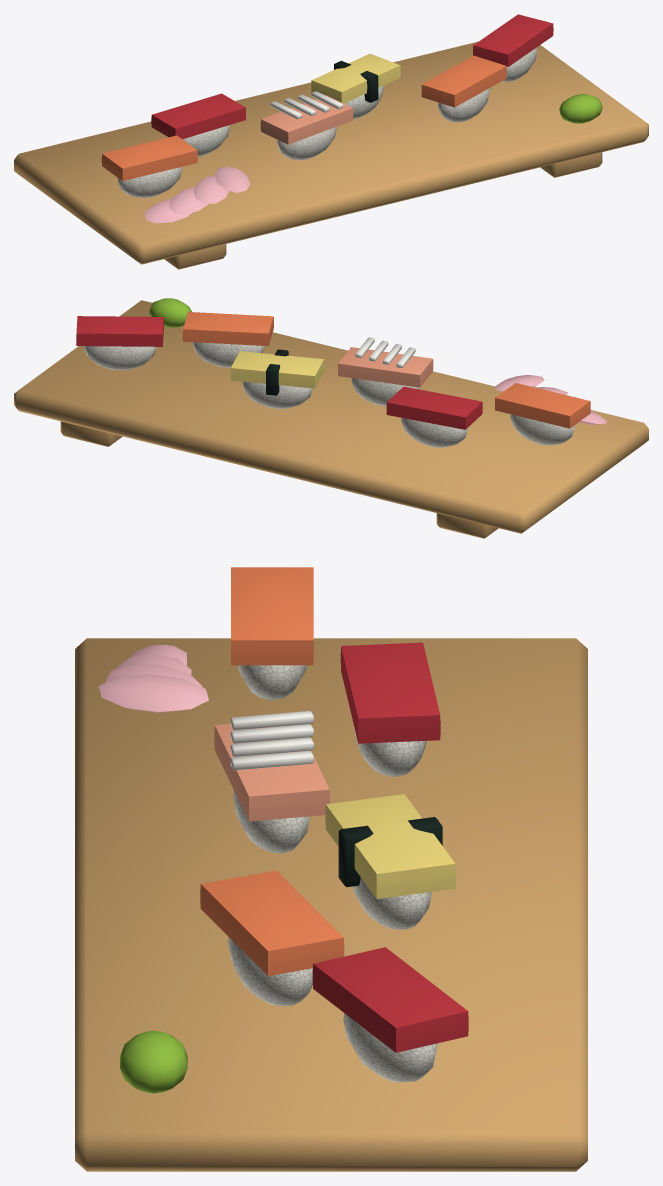
Rendered from meal_sushi_nigiri_set.glb.
The picture shows the model from 3 angles, top to bottom: view 1: azimuth 30°, elevation 25°; view 2: azimuth 150°, elevation 25°; view 3: azimuth 270°, elevation 25°; orthographic projection. The views are drawn at different scales.
Visible parts, largest first — view 1: meal_sushi_nigiri_set; view 2: meal_sushi_nigiri_set; view 3: meal_sushi_nigiri_set.
Part boxes in pixels (box(x1,y1,x2,y2)): meal_sushi_nigiri_set: box(14, 14, 648, 269); meal_sushi_nigiri_set: box(14, 298, 648, 538); meal_sushi_nigiri_set: box(75, 567, 587, 1171).
Size of the model in its own units: 0.3 by 0.0524 by 0.13.
Materials: 10 (1 with a texture image).
